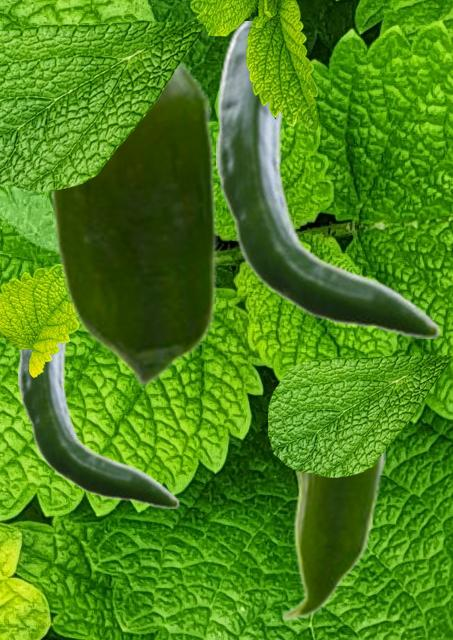green_chili: (216, 21, 440, 337), (47, 59, 216, 385), (18, 335, 179, 507), (280, 453, 384, 621)
